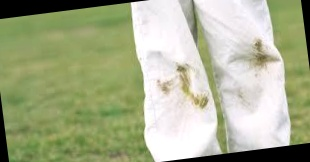earth: (247, 38, 271, 72), (174, 66, 192, 94), (156, 78, 175, 97), (190, 94, 210, 111)
